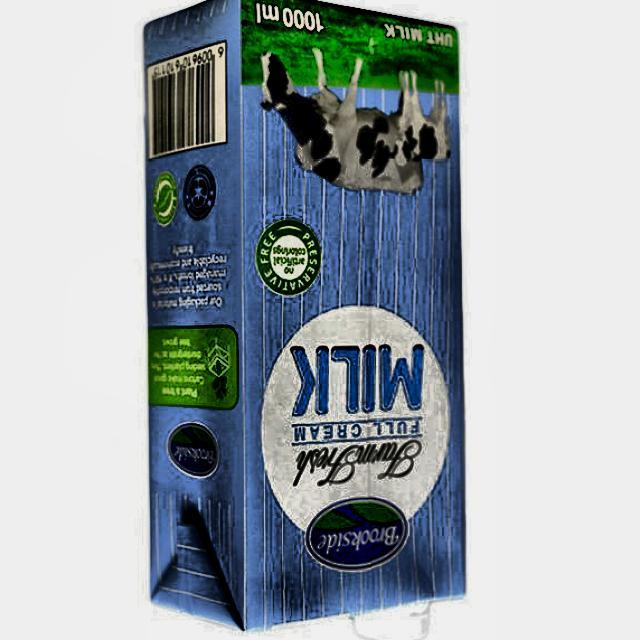cardboard: (143, 0, 468, 635)
